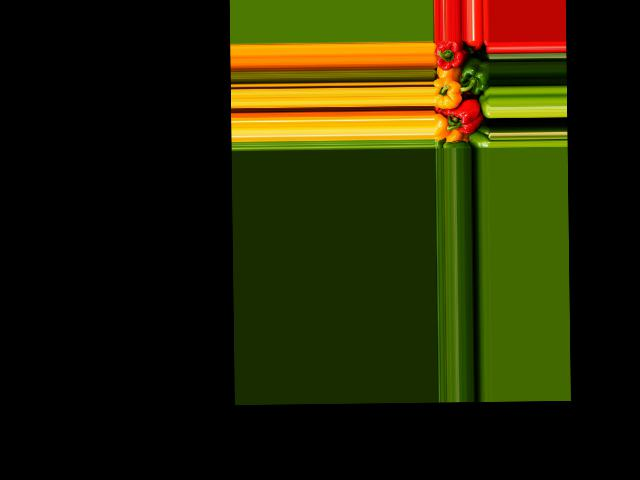bell_pepper: (434, 41, 467, 74)
